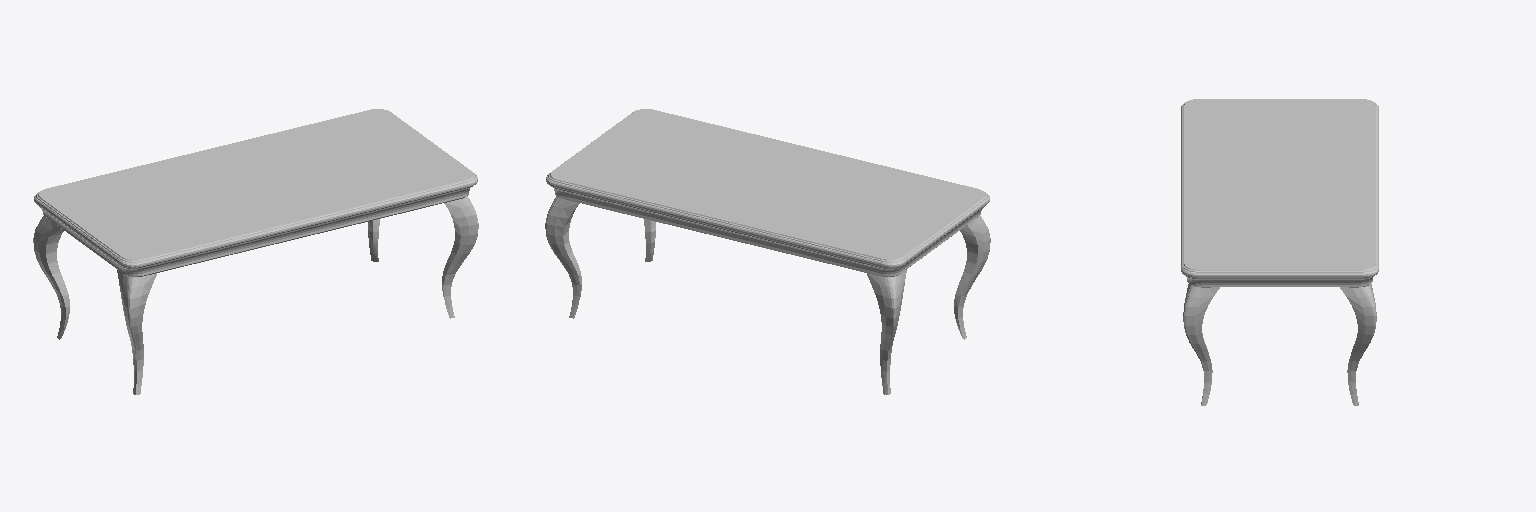
Rendered from Vintage_Furniture_Coffee_Table_OBJ3.obj.
The picture shows the model from 3 angles: view 1: azimuth 30°, elevation 25°; view 2: azimuth 150°, elevation 25°; view 3: azimuth 270°, elevation 25°; orthographic projection.
Parts seen in each view (by area): view 1: Vintage_Furniture_Coffee_Table_OBJ:Vintage_Furniture_Coffee_Tabl; view 2: Vintage_Furniture_Coffee_Table_OBJ:Vintage_Furniture_Coffee_Tabl; view 3: Vintage_Furniture_Coffee_Table_OBJ:Vintage_Furniture_Coffee_Tabl.
Boxes of the visible parts, box(x1,y1,x2,y2) form: Vintage_Furniture_Coffee_Table_OBJ:Vintage_Furniture_Coffee_Tabl: box(33, 109, 478, 394); Vintage_Furniture_Coffee_Table_OBJ:Vintage_Furniture_Coffee_Tabl: box(545, 109, 990, 394); Vintage_Furniture_Coffee_Table_OBJ:Vintage_Furniture_Coffee_Tabl: box(1181, 99, 1378, 405).
Size of the model in its own units: 1.61 by 0.6194 by 0.7763.